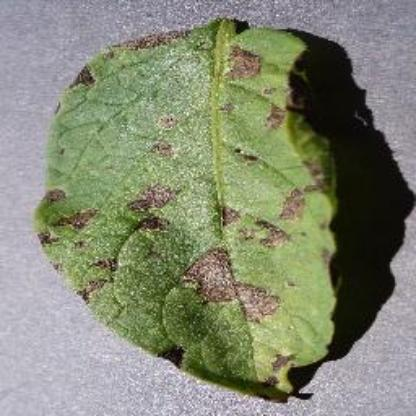Early-Blight: (33, 23, 361, 403)
